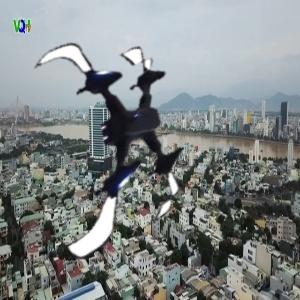drone: (7, 27, 217, 237)
